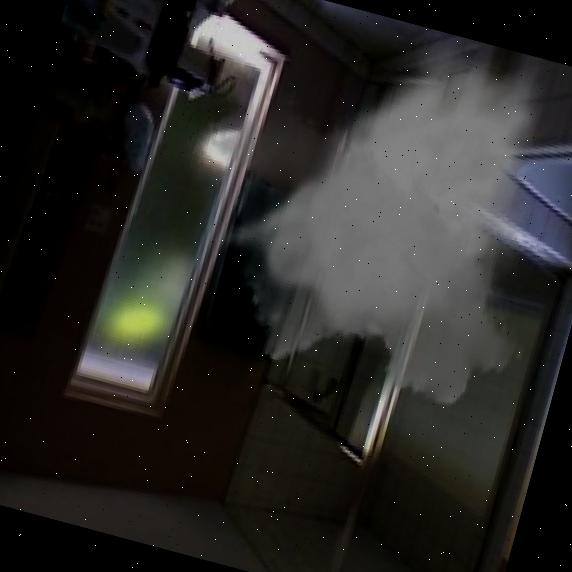smoke: (148, 0, 572, 433)
